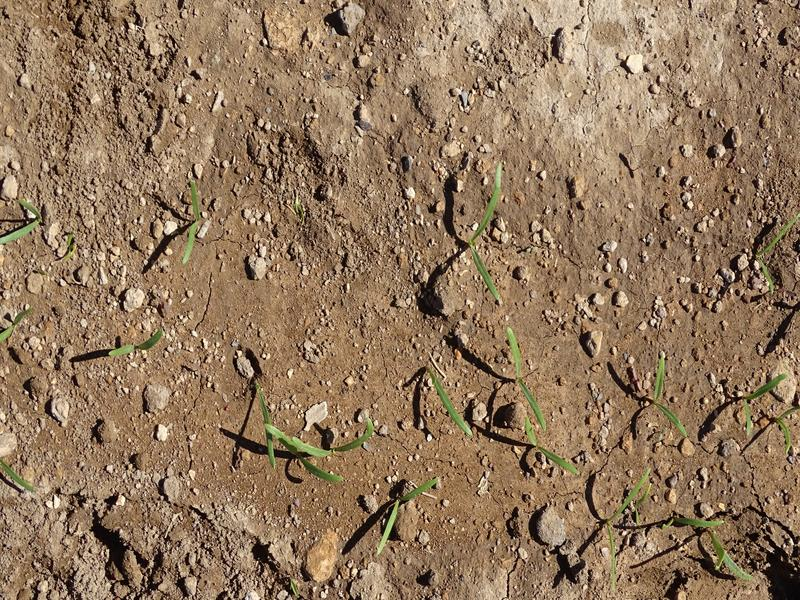Espinaca: (247, 400, 376, 484), (595, 465, 655, 596), (455, 162, 510, 303), (667, 510, 761, 582), (377, 477, 446, 551), (503, 326, 548, 431), (421, 369, 476, 437), (648, 353, 692, 436), (738, 375, 788, 437), (523, 430, 584, 476), (100, 325, 169, 362), (174, 177, 202, 264)
